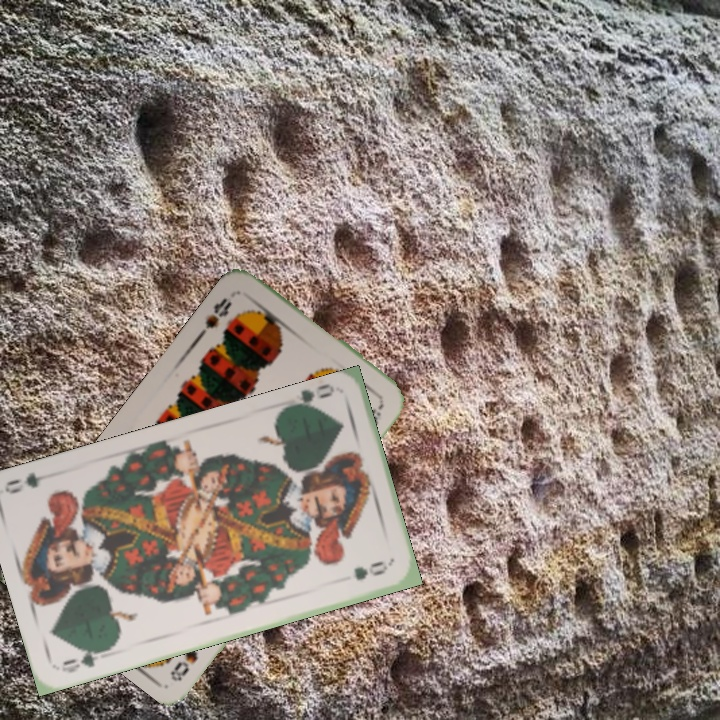GO: (57, 641, 112, 676), (282, 380, 337, 413)
S8: (196, 293, 235, 338), (166, 646, 201, 684)
